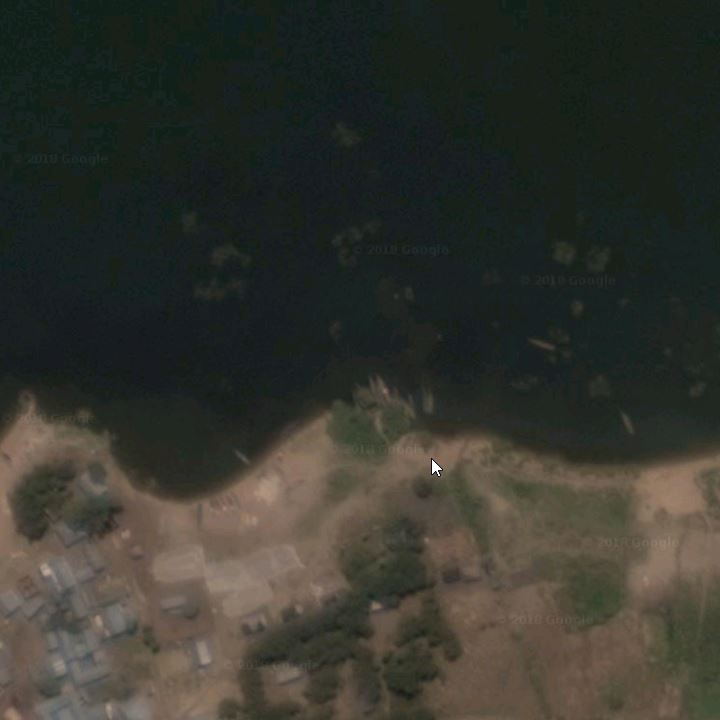boat: (223, 442, 255, 472), (615, 405, 639, 443), (525, 335, 562, 356), (399, 390, 417, 421), (366, 371, 381, 404), (426, 380, 438, 421), (377, 373, 392, 404), (194, 499, 206, 536), (420, 387, 431, 421), (226, 484, 238, 514), (229, 484, 244, 506), (220, 491, 228, 517), (213, 493, 220, 518), (208, 493, 213, 519)
